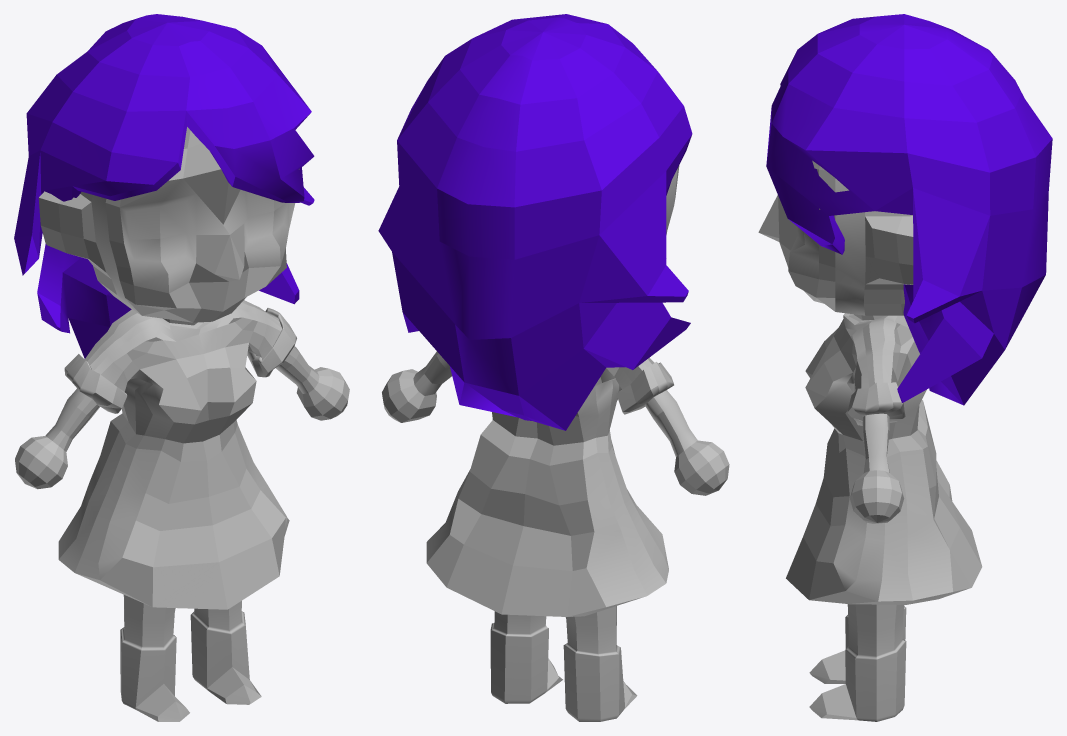
The model's file is Body and hair of friend.fbx.
3 views of the same model, side by side, from view 1: azimuth 30°, elevation 25°; view 2: azimuth 150°, elevation 25°; view 3: azimuth 270°, elevation 25° (orthographic). The views are drawn at different scales.
Parts seen in each view (by area): view 1: Body, Hair; view 2: Hair, Body; view 3: Hair, Body.
Part boxes in pixels (x1,y1,x2,y2): Body: [15, 127, 349, 721]; Hair: [14, 14, 314, 358]; Hair: [378, 14, 692, 430]; Body: [382, 165, 729, 721]; Hair: [766, 14, 1052, 405]; Body: [758, 160, 982, 721].
Bounding box in the file's own units: 2.87 × 5.53 × 2.21.
